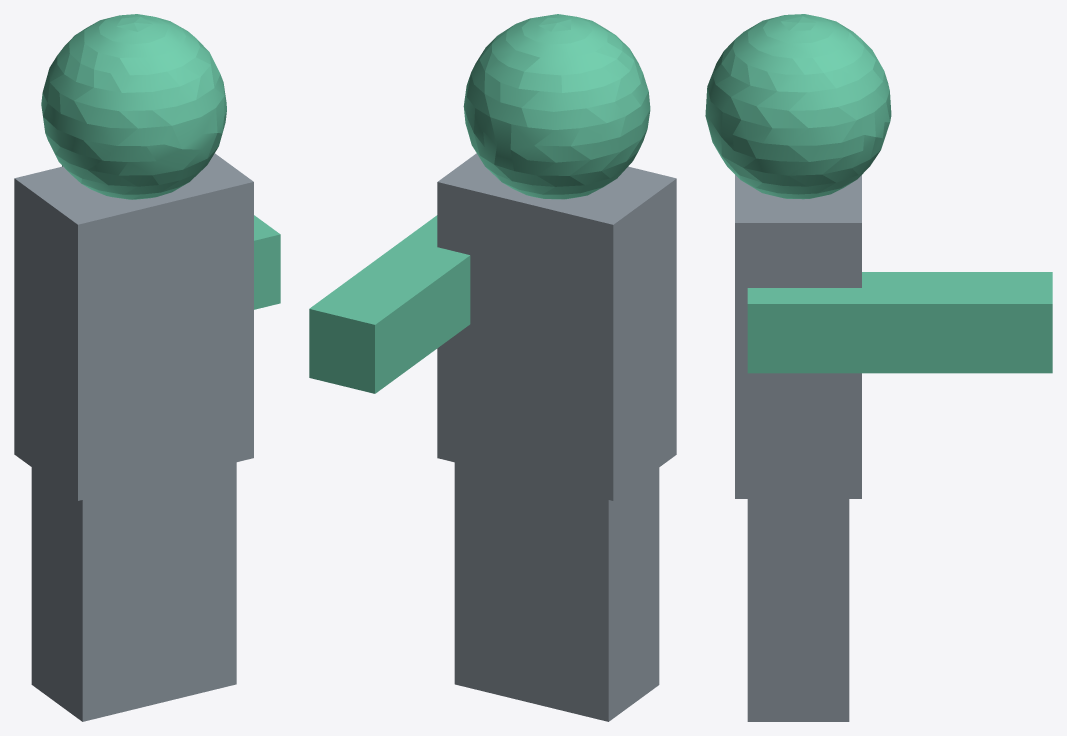
File: CO_QianweiRifleman_LOD1.glb
3 renders of one model, left to right at view 1: azimuth 30°, elevation 25°; view 2: azimuth 150°, elevation 25°; view 3: azimuth 270°, elevation 25°, orthographic.
Parts seen in each view (by area): view 1: Head; view 2: Head; view 3: Head.
Boxes of the visible parts, x1,y1,x2,y2 form: Head: (14,14,280,721); Head: (309,14,676,721); Head: (705,14,1052,721).
Bounding box in the file's own units: 57 × 172 × 81.99.
